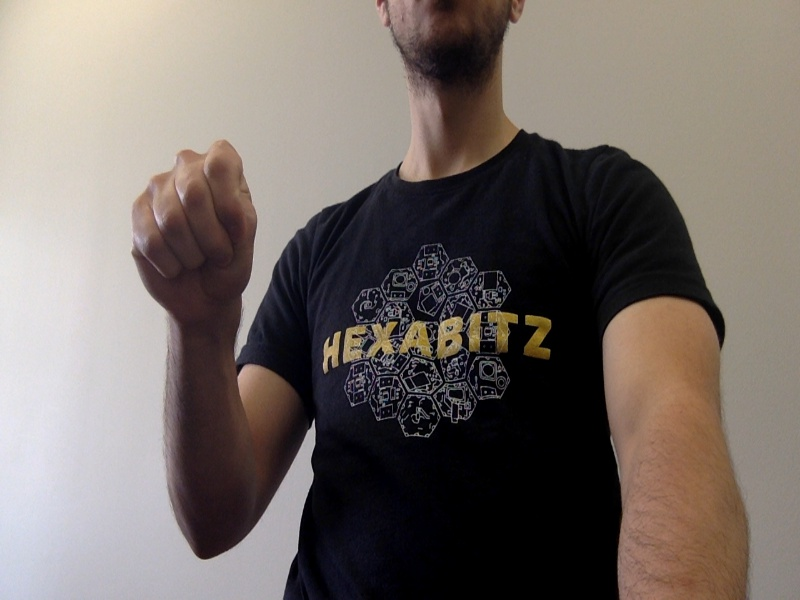0-hand: (132, 141, 254, 315)
